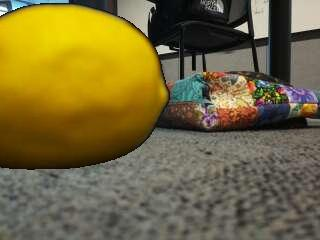lemon: (0, 5, 166, 169)
